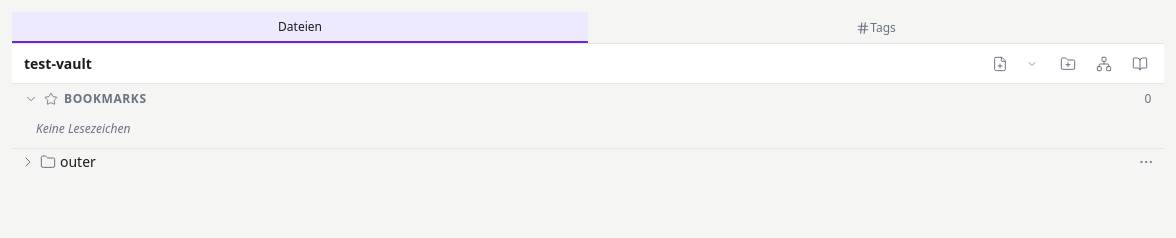
Flat sidebar renders nested subfolders across multiple levels (#118, updated for #253) › renders all three levels when every folder is persisted-expanded
Click the button named "Expand" at [28, 162], box [20,154,36,170]
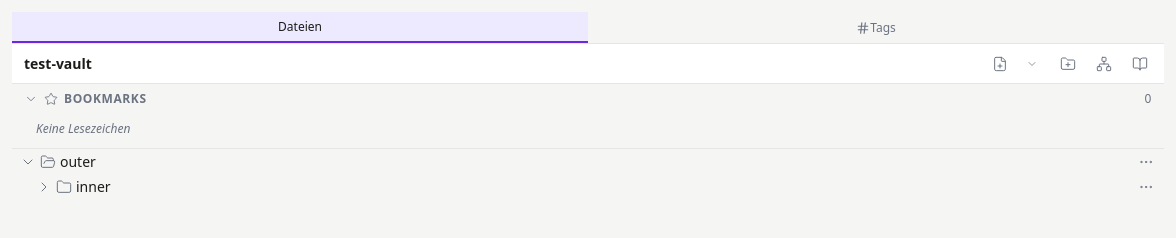
expect the text "inner" is shown: met, box [76,177,111,196]
# Click inner's chevron to descend another level.
Click the button named "Expand" at [44, 186], box [36,178,52,194]
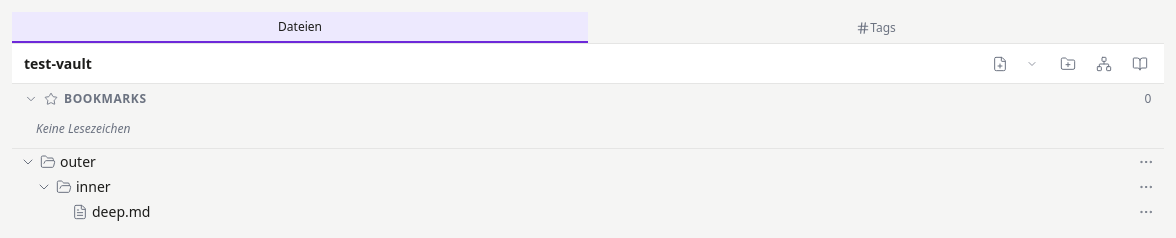
expect the text "deep.md" is shown: met, box [92,202,150,221]
